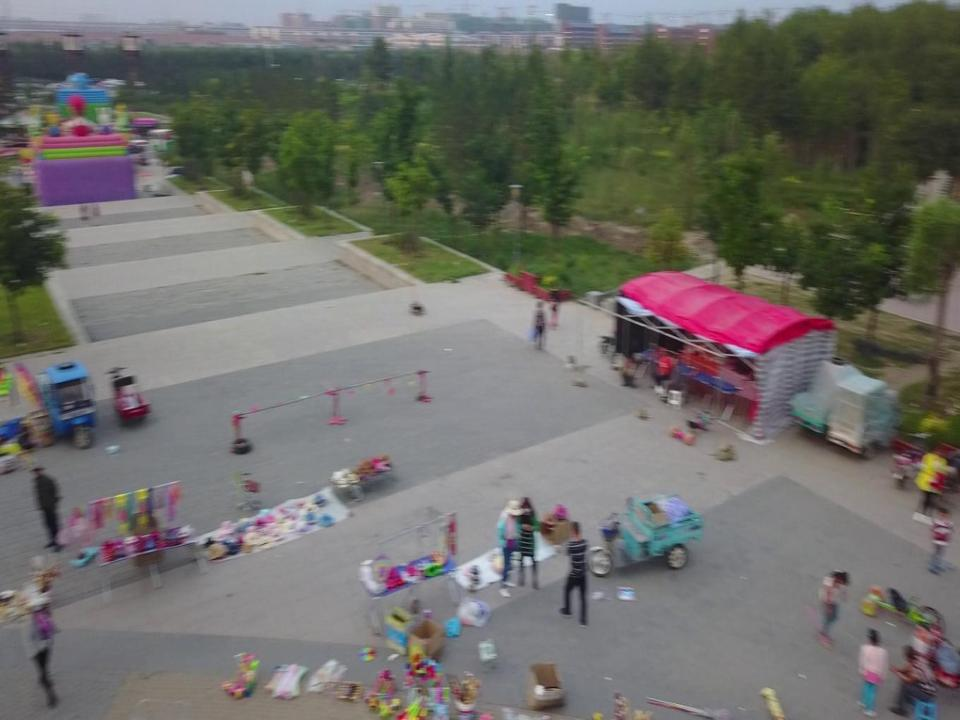truck: (592, 496, 702, 572), (39, 366, 96, 449)
